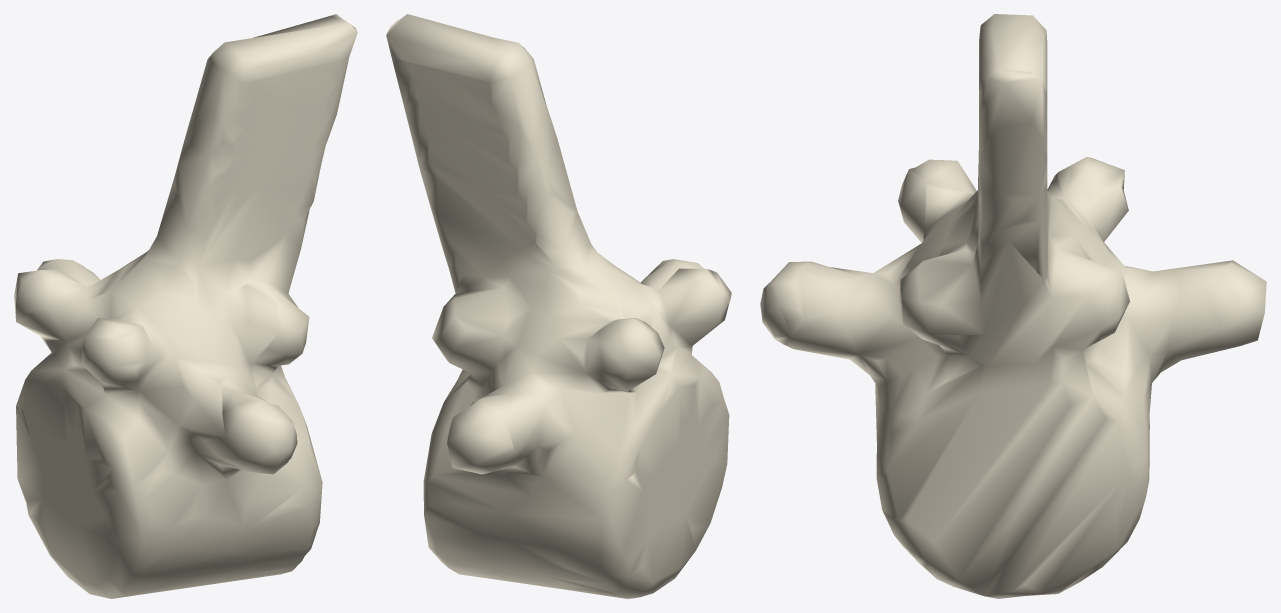
File: thoracic_14.glb
3 views of the same model, side by side, from view 1: azimuth 30°, elevation 25°; view 2: azimuth 150°, elevation 25°; view 3: azimuth 270°, elevation 25° (orthographic). The views are drawn at different scales.
Parts seen in each view (by area): view 1: geometry_0; view 2: geometry_0; view 3: geometry_0.
Boxes of the visible parts, x1,y1,x2,y2 form: geometry_0: [14, 14, 357, 598]; geometry_0: [386, 14, 731, 598]; geometry_0: [760, 14, 1266, 598].
Bounding box in the file's own units: 0.1345 × 0.2238 × 0.1782.
